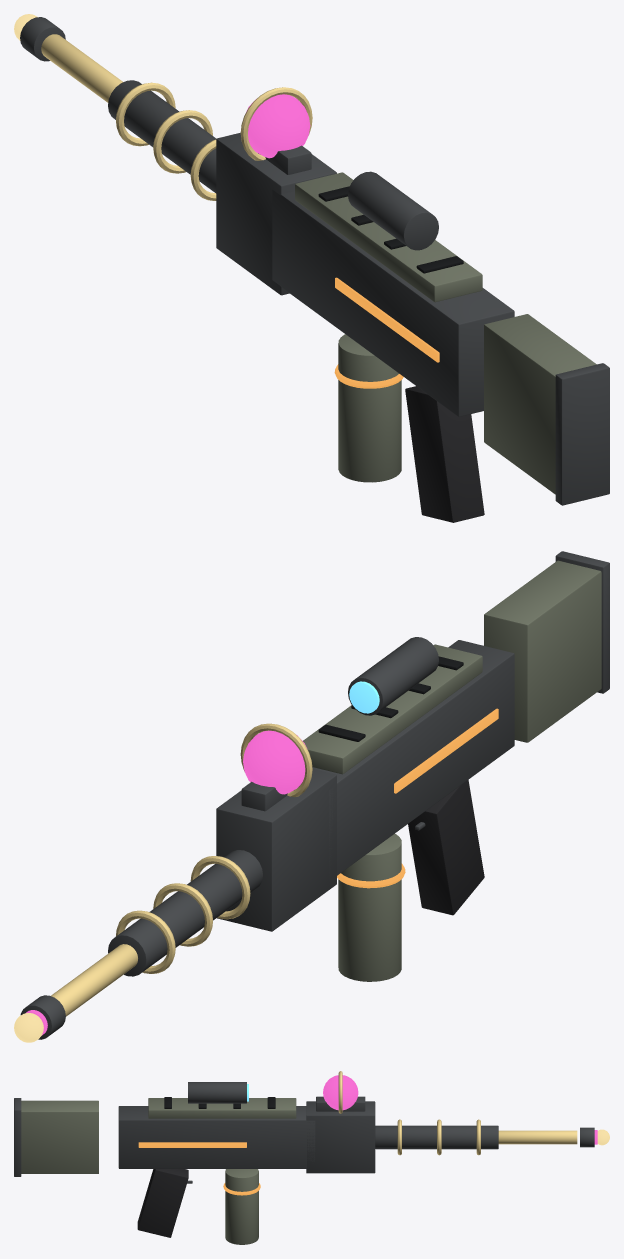
File: spolokh7.glb
The picture shows the model from 3 angles, top to bottom: view 1: azimuth 30°, elevation 25°; view 2: azimuth 150°, elevation 25°; view 3: azimuth 270°, elevation 25°; orthographic projection. The views are drawn at different scales.
Visible parts, largest first — view 1: SM_Spolokh7_Body_Main, SM_Spolokh7_Stock, SM_Spolokh7_Chamber_Housing, SM_Spolokh7_Canister_Mag, SM_Spolokh7_Grip, SM_Spolokh7_ButtPlate, SM_Spolokh7_Body_TopCover, SM_Spolokh7_Barrel_Shroud, SM_Spolokh7_Optic_Body, SM_Spolokh7_Plasma_Chamber, SM_Spolokh7_Barrel, SM_Spolokh7_SideStrip_L (+5 smaller); view 2: SM_Spolokh7_Body_Main, SM_Spolokh7_Stock, SM_Spolokh7_Chamber_Housing, SM_Spolokh7_Canister_Mag, SM_Spolokh7_Grip, SM_Spolokh7_Body_TopCover, SM_Spolokh7_Barrel_Shroud, SM_Spolokh7_Optic_Body, SM_Spolokh7_Plasma_Chamber, SM_Spolokh7_Barrel, SM_Spolokh7_ButtPlate, SM_Spolokh7_SideStrip_L (+8 smaller); view 3: SM_Spolokh7_Body_Main, SM_Spolokh7_Stock, SM_Spolokh7_Chamber_Housing, SM_Spolokh7_Barrel_Shroud, SM_Spolokh7_Body_TopCover, SM_Spolokh7_Grip, SM_Spolokh7_Canister_Mag, SM_Spolokh7_Optic_Body, SM_Spolokh7_Barrel, SM_Spolokh7_Plasma_Chamber, SM_Spolokh7_SideStrip_R, SM_Spolokh7_ButtPlate (+2 smaller).
Boxes of the visible parts, x1,y1,x2,y2 form: SM_Spolokh7_Body_Main: [272, 190, 514, 416]; SM_Spolokh7_Stock: [484, 314, 596, 494]; SM_Spolokh7_Chamber_Housing: [216, 132, 336, 295]; SM_Spolokh7_Canister_Mag: [338, 334, 401, 482]; SM_Spolokh7_Grip: [405, 386, 484, 522]; SM_Spolokh7_ButtPlate: [555, 363, 609, 505]; SM_Spolokh7_Body_TopCover: [295, 172, 482, 302]; SM_Spolokh7_Barrel_Shroud: [108, 80, 216, 193]; SM_Spolokh7_Optic_Body: [348, 171, 438, 250]; SM_Spolokh7_Plasma_Chamber: [246, 94, 310, 158]; SM_Spolokh7_Barrel: [41, 34, 123, 102]; SM_Spolokh7_SideStrip_L: [335, 277, 439, 362]; SM_Spolokh7_Body_Main: [312, 640, 514, 880]; SM_Spolokh7_Stock: [484, 560, 601, 742]; SM_Spolokh7_Chamber_Housing: [216, 769, 336, 931]; SM_Spolokh7_Canister_Mag: [338, 833, 401, 981]; SM_Spolokh7_Grip: [408, 780, 484, 915]; SM_Spolokh7_Body_TopCover: [303, 644, 482, 774]; SM_Spolokh7_Barrel_Shroud: [108, 850, 262, 976]; SM_Spolokh7_Optic_Body: [348, 637, 438, 715]; SM_Spolokh7_Plasma_Chamber: [243, 730, 307, 794]; SM_Spolokh7_Barrel: [51, 944, 137, 1016]; SM_Spolokh7_ButtPlate: [555, 551, 609, 693]; SM_Spolokh7_SideStrip_L: [394, 708, 498, 793]; SM_Spolokh7_Body_Main: [118, 1106, 315, 1168]; SM_Spolokh7_Stock: [21, 1100, 98, 1173]; SM_Spolokh7_Chamber_Housing: [306, 1101, 375, 1173]; SM_Spolokh7_Barrel_Shroud: [375, 1125, 498, 1149]; SM_Spolokh7_Body_TopCover: [148, 1098, 296, 1118]; SM_Spolokh7_Grip: [137, 1169, 188, 1237]; SM_Spolokh7_Canister_Mag: [225, 1169, 258, 1244]; SM_Spolokh7_Optic_Body: [188, 1082, 246, 1103]; SM_Spolokh7_Barrel: [498, 1130, 577, 1144]; SM_Spolokh7_Plasma_Chamber: [323, 1075, 358, 1110]; SM_Spolokh7_SideStrip_R: [138, 1142, 246, 1147]; SM_Spolokh7_ButtPlate: [14, 1098, 21, 1176].
Bounding box in the file's own units: 0.088 × 0.369 × 1.21.
